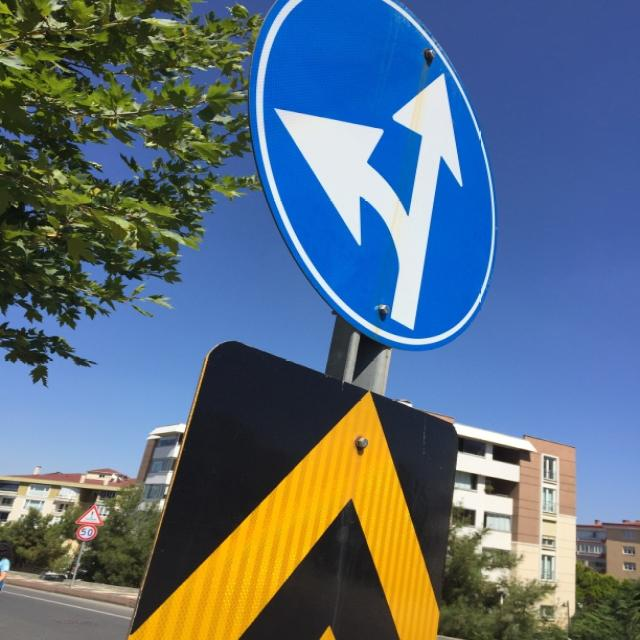ilerisol: (250, 1, 497, 351)
